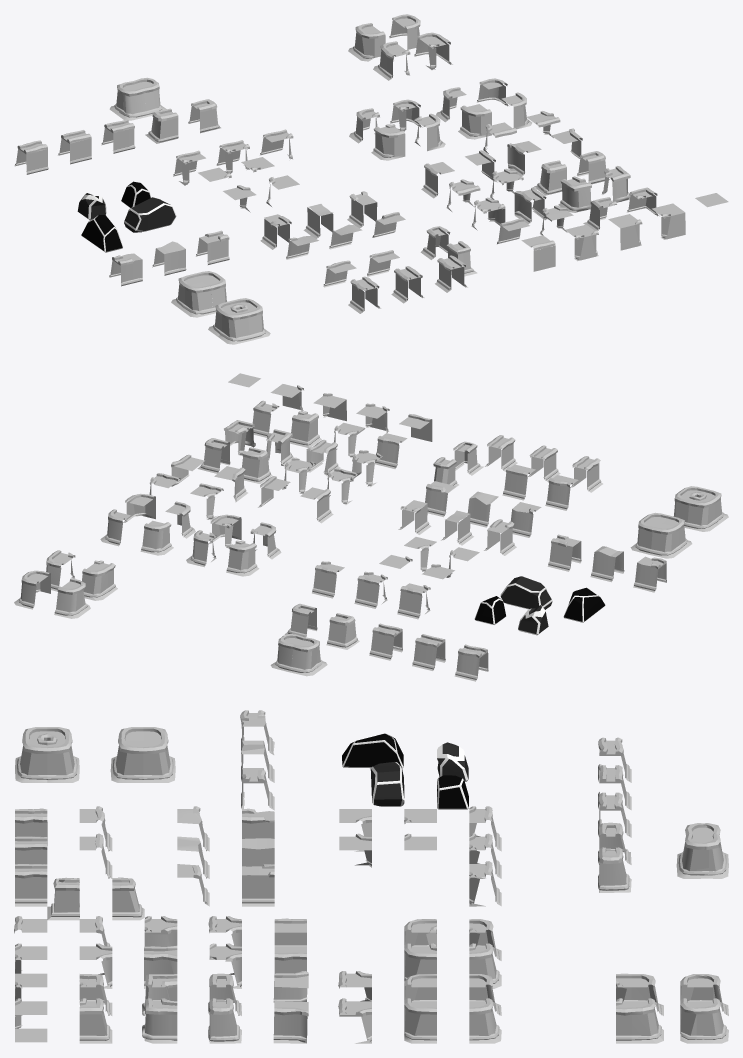
Rendered from Piezas_escenario.fbx.
The picture shows the model from 3 angles, top to bottom: view 1: azimuth 30°, elevation 25°; view 2: azimuth 150°, elevation 25°; view 3: azimuth 270°, elevation 25°; orthographic projection. The views are drawn at different scales.
Parts seen in each view (by area): view 1: Int_2x2_Island7, polySurface292, rock_1, Int_39_cornerblock_1_5_left, Int_31_Corner_Block_Round_U_R269269, rock_2, Int_34_Corner_Block_Round_D_L22, Int_13_Corner_Rect_U_R, Int_31_Corner_Block_Round_U_R, Int_44, Int_21_Wall_Hor_B, Int_18_Wall_Hor_End_Right4 (+39 smaller); view 2: polySurface292, Int_2x2_Island7, rock_1, Int_45, Int_34_Corner_Block_Round_D_L22, Int_39_cornerblock_1_5_left, Int_21_Wall_Hor_A, Int_21_Wall_Hor_B, Int_21_Wall_Hor_A_Var, Int_21_Wall_Hor_C, rock_2, Int_21_Wall_Hor_C_Var (+50 smaller); view 3: polySurface292, Int_2x2_Island7, Int_34_Corner_Block_Round_D_L21, Int_44, Int_39_cornerblock_1_5_right, rock_2, Int_12_Corner_Rect_U_L, Int_22_Wall_Corner_U_L, Int_30_Corner_Block_Round_U_L, rock_1, Int_6_Wall_Vert, Int_6_Wall_Vert_Var (+51 smaller).
Part boxes in pixels (x1,y1,x2,y2): Int_2x2_Island7: [208, 298, 270, 344]; polySurface292: [171, 271, 227, 317]; rock_1: [124, 197, 176, 232]; Int_39_cornerblock_1_5_left: [109, 81, 147, 120]; Int_31_Corner_Block_Round_U_R269269: [371, 124, 405, 160]; rock_2: [81, 214, 122, 252]; Int_34_Corner_Block_Round_D_L22: [348, 23, 385, 61]; Int_13_Corner_Rect_U_R: [558, 176, 591, 212]; Int_31_Corner_Block_Round_U_R: [458, 104, 491, 139]; Int_44: [414, 32, 452, 69]; Int_21_Wall_Hor_B: [58, 130, 91, 164]; Int_18_Wall_Hor_End_Right4: [145, 108, 178, 143]; polySurface292: [630, 512, 692, 558]; Int_2x2_Island7: [673, 486, 728, 531]; rock_1: [500, 576, 552, 609]; Int_45: [82, 560, 117, 600]; Int_34_Corner_Block_Round_D_L22: [54, 578, 90, 618]; Int_39_cornerblock_1_5_left: [289, 637, 327, 676]; Int_21_Wall_Hor_A: [369, 623, 402, 660]; Int_21_Wall_Hor_B: [412, 634, 445, 670]; Int_21_Wall_Hor_A_Var: [547, 534, 581, 571]; Int_21_Wall_Hor_C: [454, 644, 488, 681]; rock_2: [563, 587, 605, 622]; Int_21_Wall_Hor_C_Var: [633, 556, 666, 592]; polySurface292: [110, 727, 175, 782]; Int_2x2_Island7: [15, 727, 79, 782]; Int_34_Corner_Block_Round_D_L21: [680, 998, 728, 1043]; Int_44: [616, 998, 663, 1043]; Int_39_cornerblock_1_5_right: [676, 833, 728, 878]; rock_2: [342, 733, 403, 768]; Int_12_Corner_Rect_U_L: [142, 998, 177, 1043]; Int_22_Wall_Corner_U_L: [273, 1000, 308, 1043]; Int_30_Corner_Block_Round_U_L: [404, 998, 436, 1043]; rock_1: [370, 761, 404, 806]; Int_6_Wall_Vert: [15, 864, 47, 906]; Int_6_Wall_Vert_Var: [242, 864, 274, 906].
Size of the model in its own units: 24 by 1.11 by 22.03.
